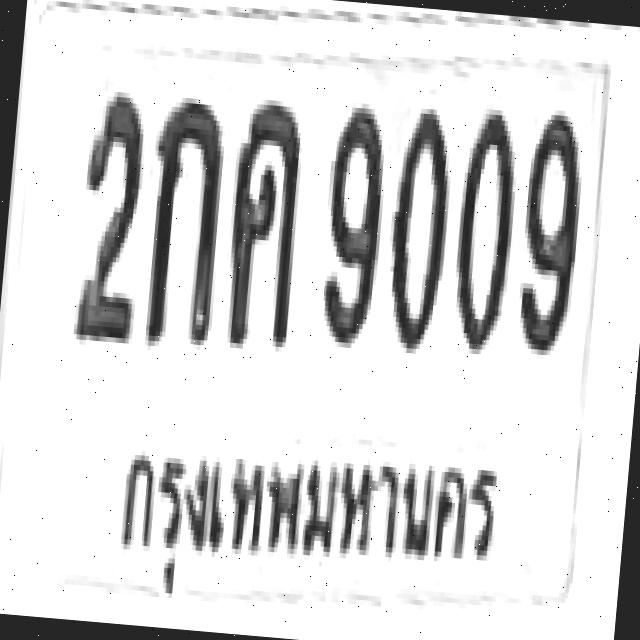0: (380, 101, 457, 350), (447, 104, 520, 353)
10GorGai: (138, 95, 228, 345)
13KhorKhwai: (220, 94, 306, 350)
2: (68, 89, 150, 343)
9: (511, 108, 587, 352), (314, 100, 389, 344)
Bangkok: (104, 414, 510, 620)
